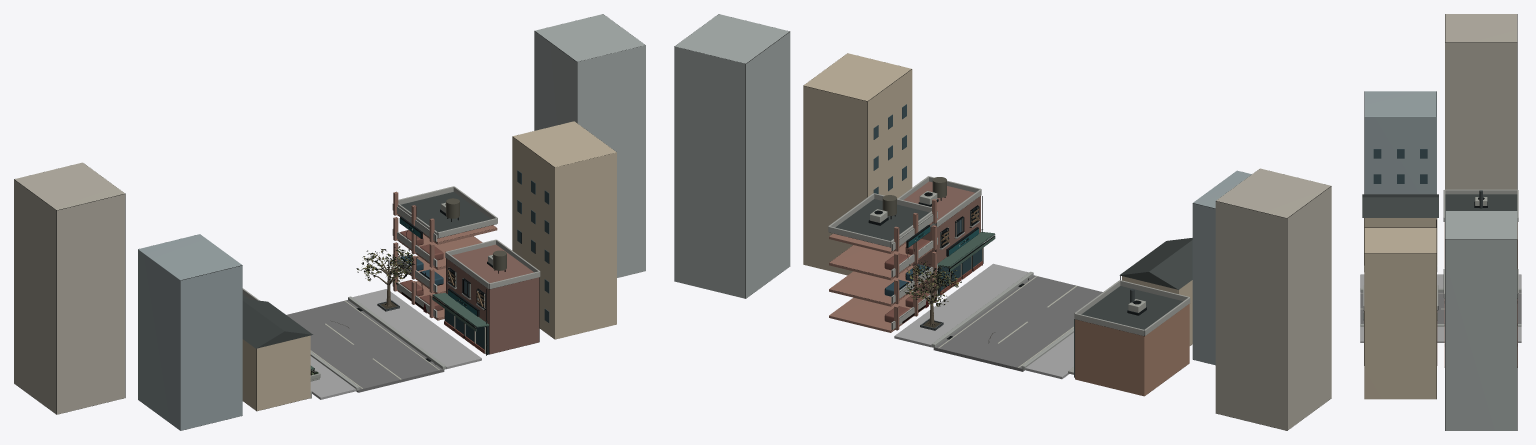
File: city_hd_13.glb
3 views of the same model, side by side, from view 1: azimuth 30°, elevation 25°; view 2: azimuth 150°, elevation 25°; view 3: azimuth 270°, elevation 25° (orthographic). The views are drawn at different scales.
Visible parts, largest first — view 1: Background city building, CITY_PBR_asphalt, CITY_PBR_pavement, CITY_curb, CITY_car_paint; view 2: Background city building, CITY_PBR_asphalt, CITY_PBR_pavement, CITY_curb, CITY_car_paint; view 3: Background city building, CITY_PBR_pavement, CITY_PBR_asphalt.
Part boxes in pixels (left/top/right/bottom): Background city building: left=14, top=14, right=645, bottom=430; CITY_PBR_asphalt: left=286, top=300, right=444, bottom=392; CITY_PBR_pavement: left=310, top=289, right=481, bottom=399; CITY_curb: left=310, top=296, right=445, bottom=390; CITY_car_paint: left=400, top=230, right=443, bottom=310; Background city building: left=674, top=14, right=1331, bottom=430; CITY_PBR_asphalt: left=933, top=275, right=1102, bottom=371; CITY_PBR_pavement: left=894, top=263, right=1073, bottom=379; CITY_curb: left=931, top=271, right=1073, bottom=369; CITY_car_paint: left=884, top=238, right=929, bottom=322; Background city building: left=1362, top=14, right=1518, bottom=430; CITY_PBR_pavement: left=1360, top=274, right=1521, bottom=342; CITY_PBR_asphalt: left=1360, top=292, right=1521, bottom=323.
Size of the model in its own units: 57.3 by 21.26 by 16.
Materials: 11 (1 with a texture image).
